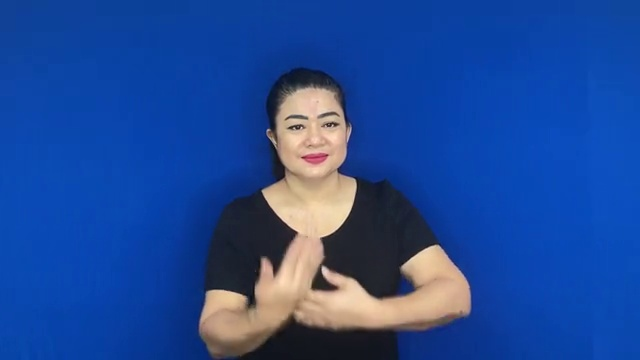bread: (249, 220, 388, 338)
